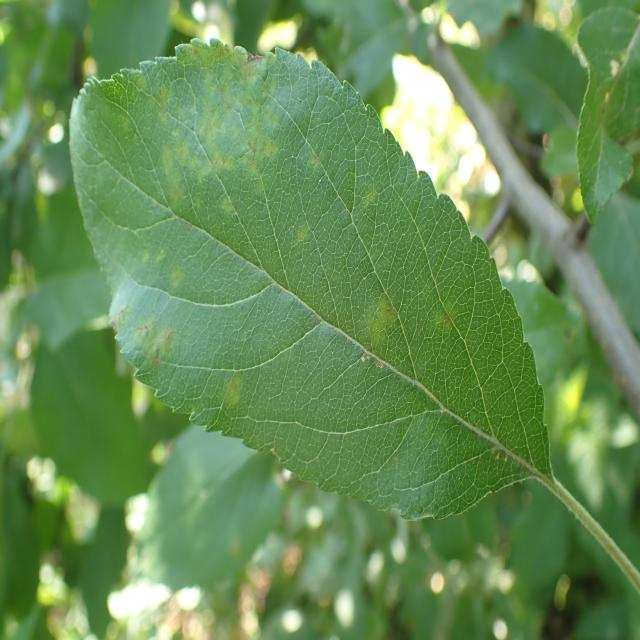scab: (104, 45, 495, 452)
